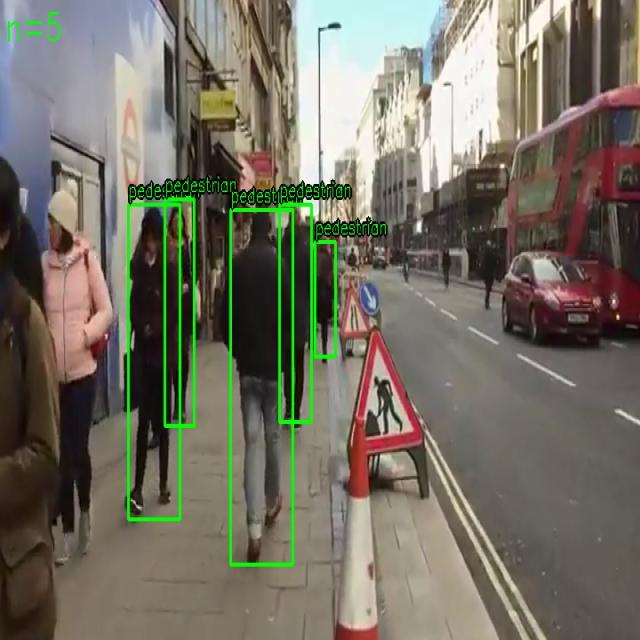with scooter: (230, 210, 294, 566), (128, 204, 180, 520), (279, 204, 312, 423), (164, 198, 194, 426), (314, 242, 336, 358)
